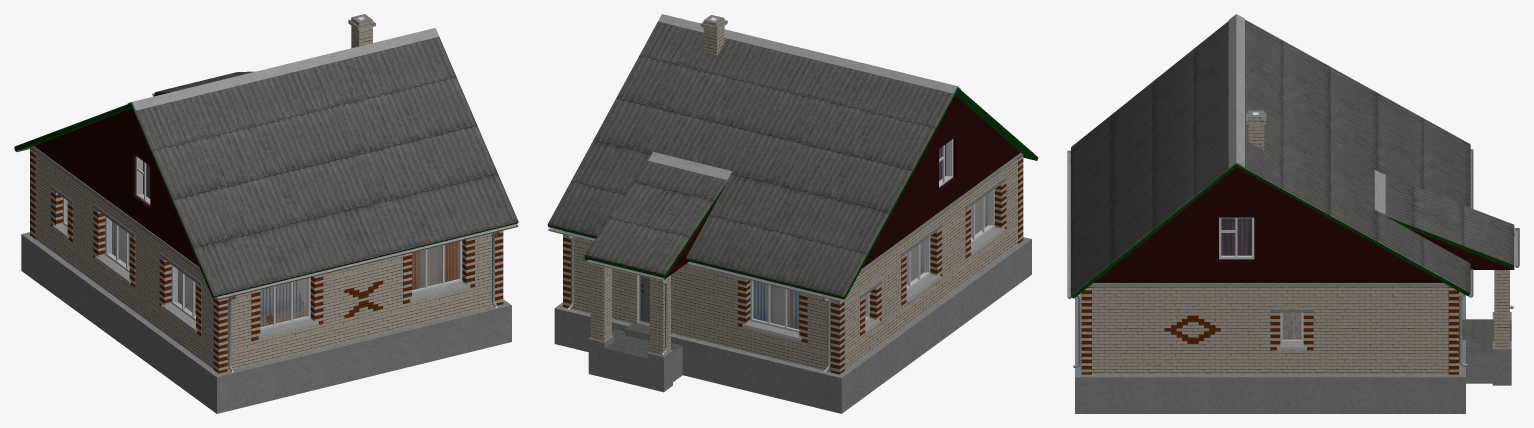
3 renders of one model, left to right at view 1: azimuth 30°, elevation 25°; view 2: azimuth 150°, elevation 25°; view 3: azimuth 270°, elevation 25°, orthographic. The views are drawn at different scales.
Visible parts, largest first — view 1: 07_L_284_LOD0_; view 2: 07_L_284_LOD0_; view 3: 07_L_284_LOD0_.
Boxes of the visible parts, x1,y1,x2,y2 form: 07_L_284_LOD0_: [14, 14, 518, 413]; 07_L_284_LOD0_: [547, 14, 1038, 413]; 07_L_284_LOD0_: [1067, 14, 1519, 413].
Size of the model in its own units: 889 by 756 by 1142.
